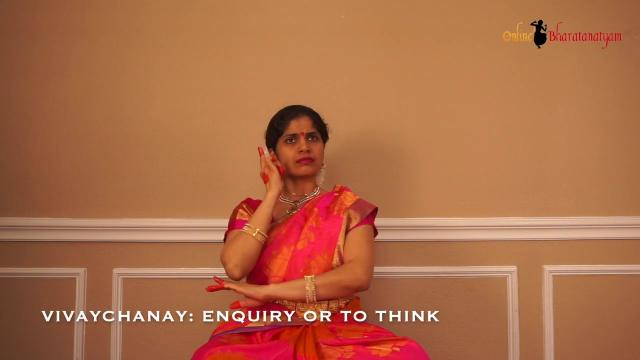soochi: (240, 140, 290, 204)
